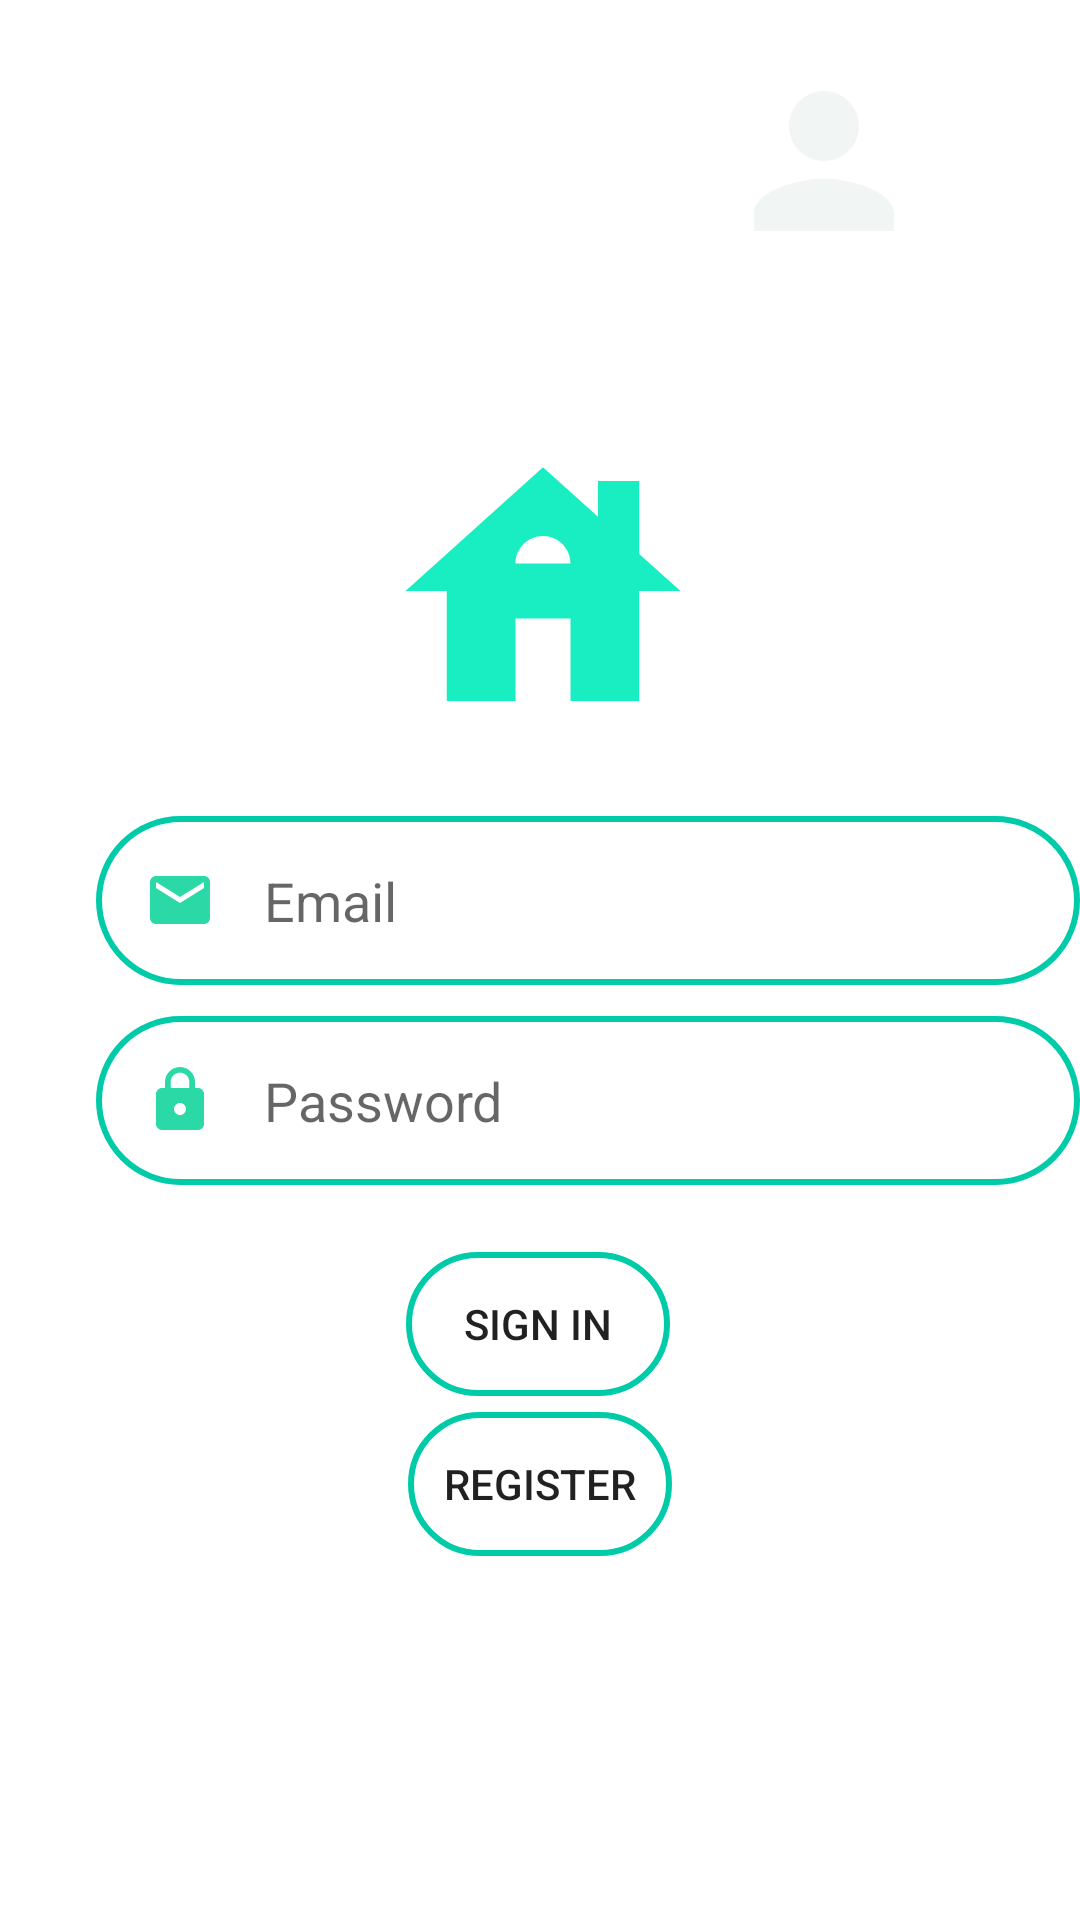

Icon bounding boxes for this 1080px x 1920px phone screenshot, format bbox=[x1, y1, x2, y2]:
house: bbox=[406, 467, 680, 701]
